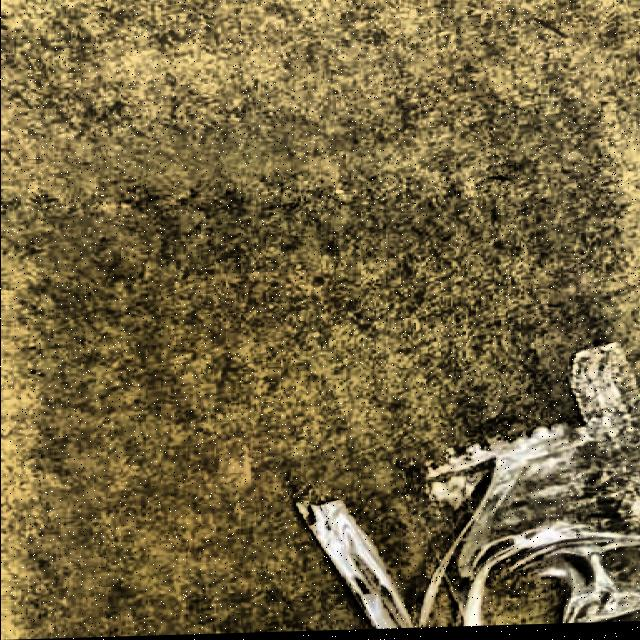cardboard: (0, 0, 640, 640), (294, 340, 640, 630)
